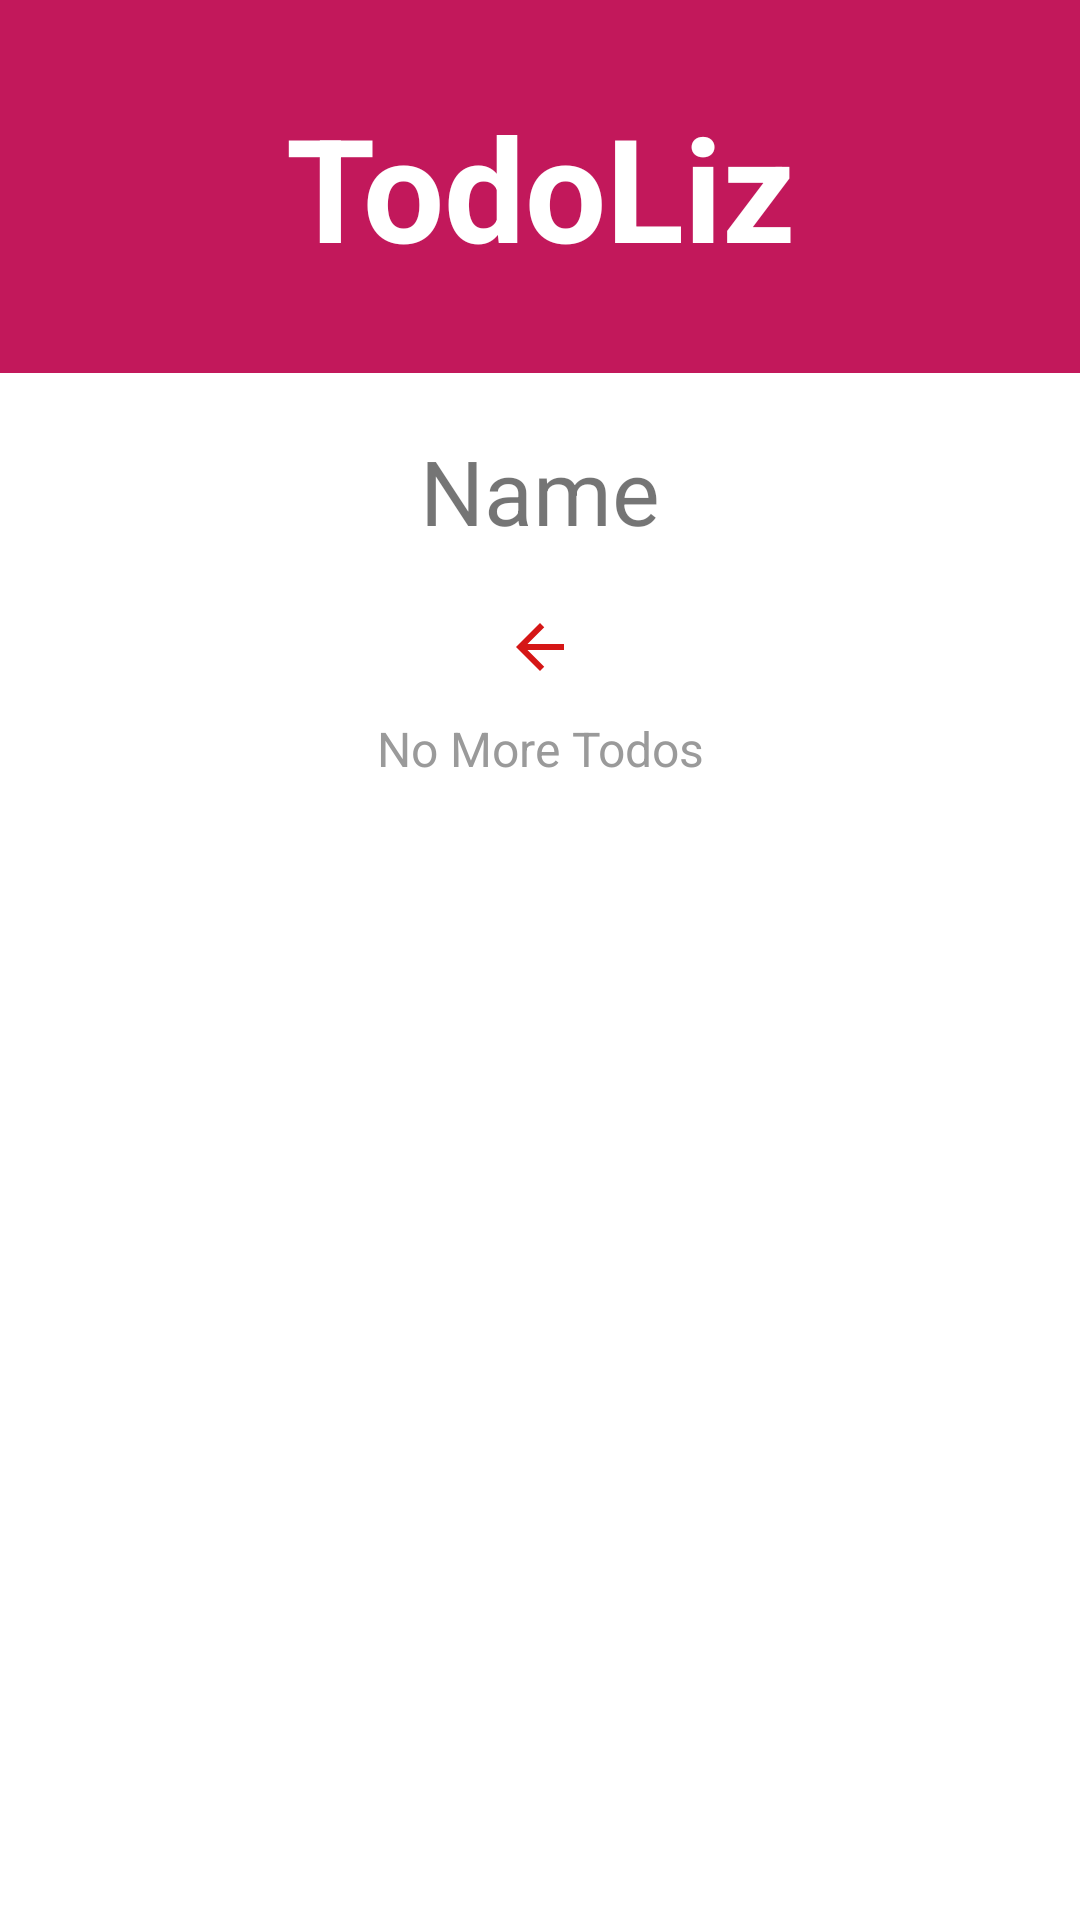

Named icons in this screenshot (1080x1920) and their centers, [x,y]:
arrow back: [540,647]
